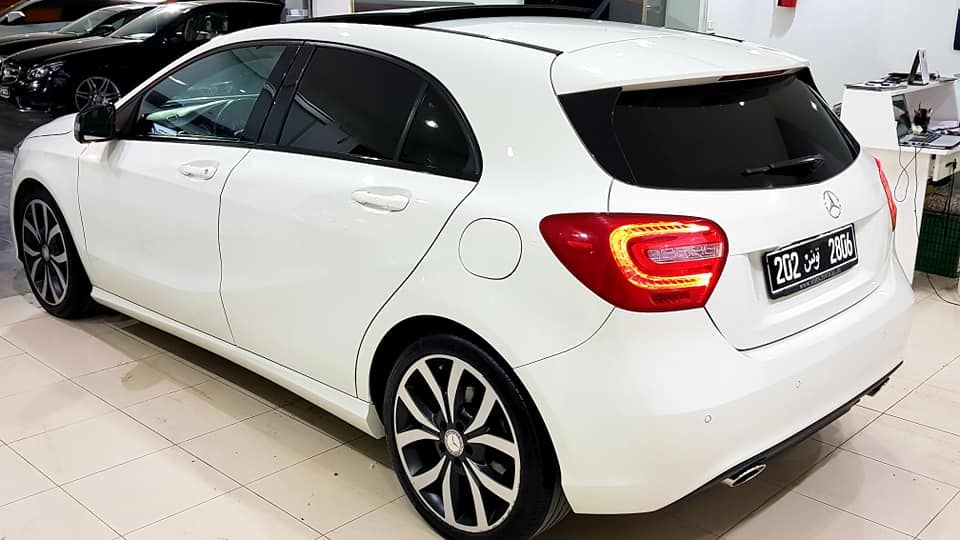LP: (768, 225, 858, 288)
